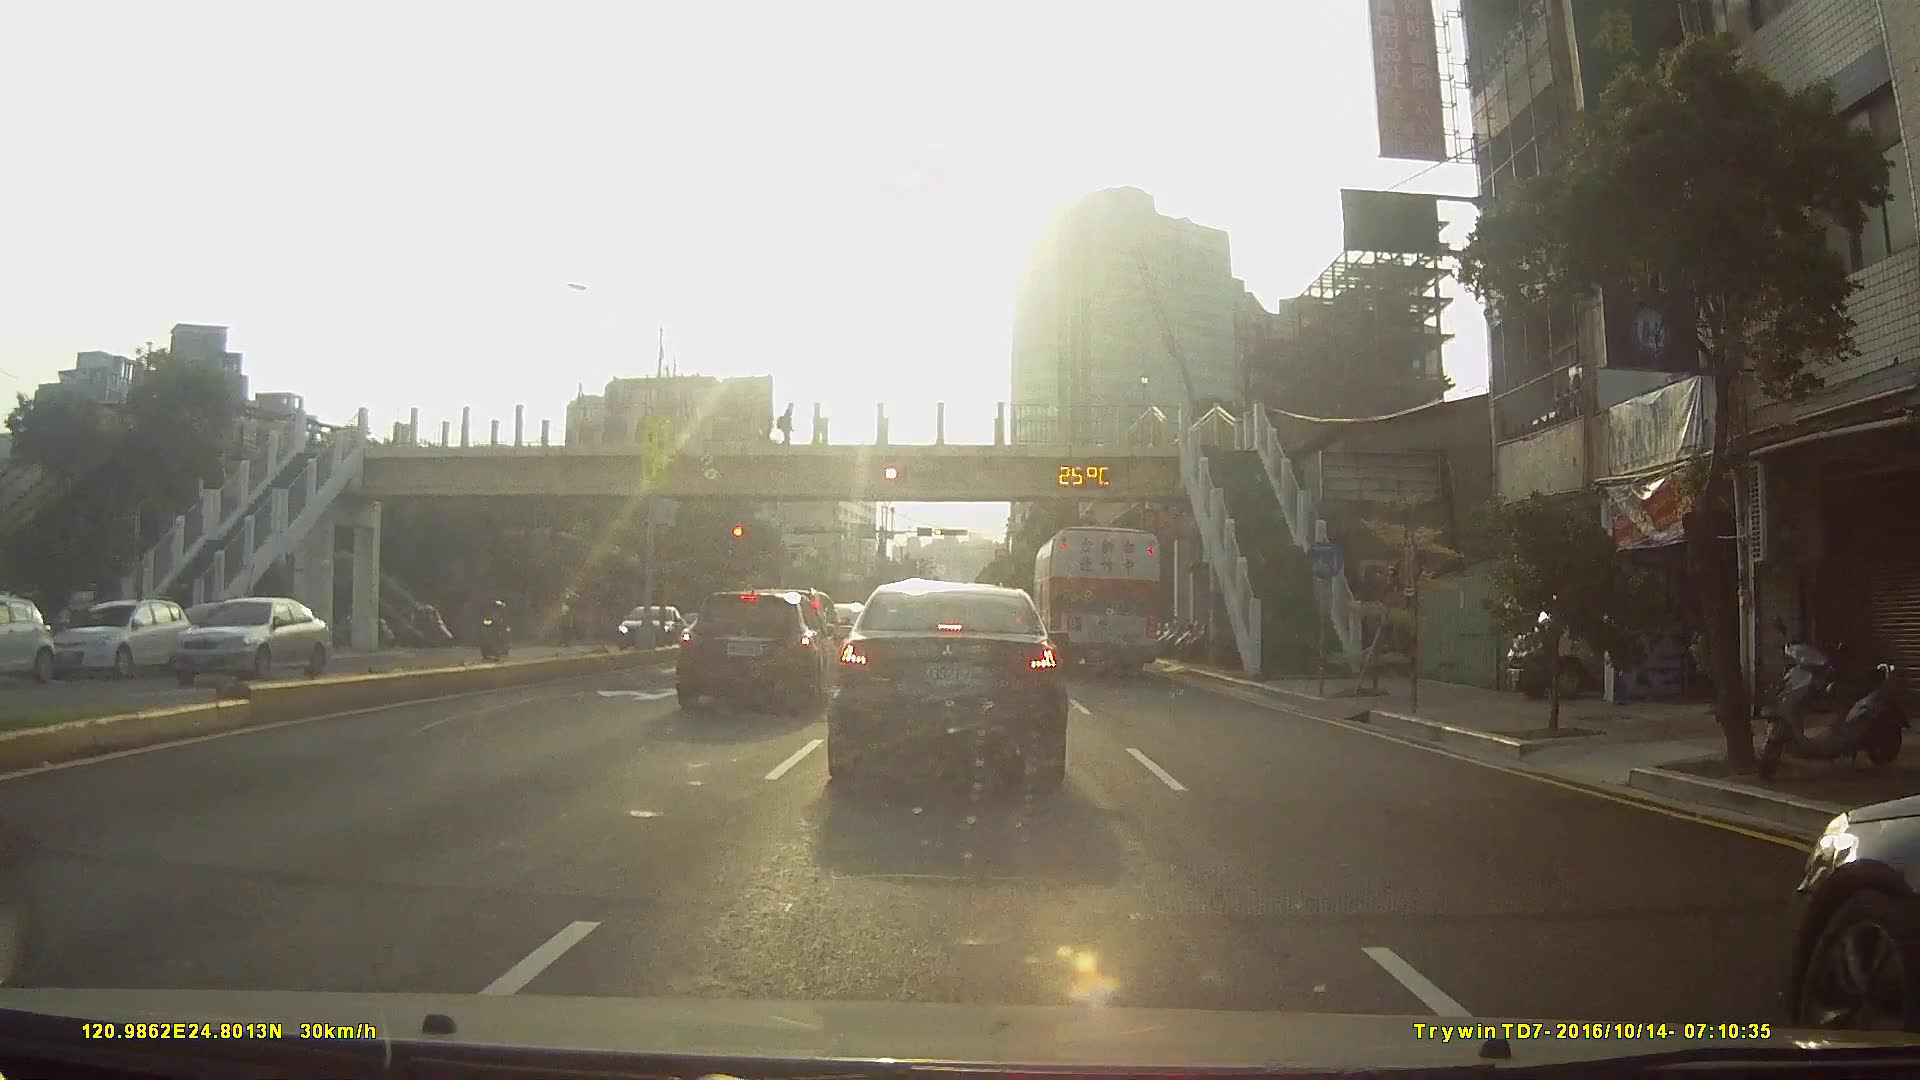pedestrian: (777, 402, 797, 448)
rider: (477, 597, 511, 663)
vehicle: (823, 581, 1071, 790), (669, 585, 844, 718), (1031, 524, 1162, 679), (146, 595, 320, 687), (44, 598, 186, 681), (174, 599, 280, 669), (0, 595, 52, 686), (610, 604, 684, 651)
